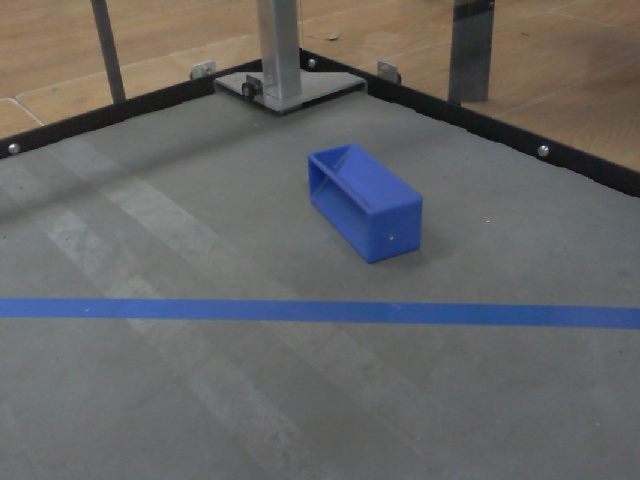BlueSample: (304, 139, 427, 268)
